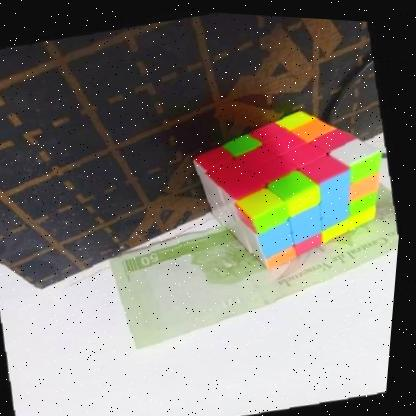fifty-back-vef: (98, 159, 406, 362)
